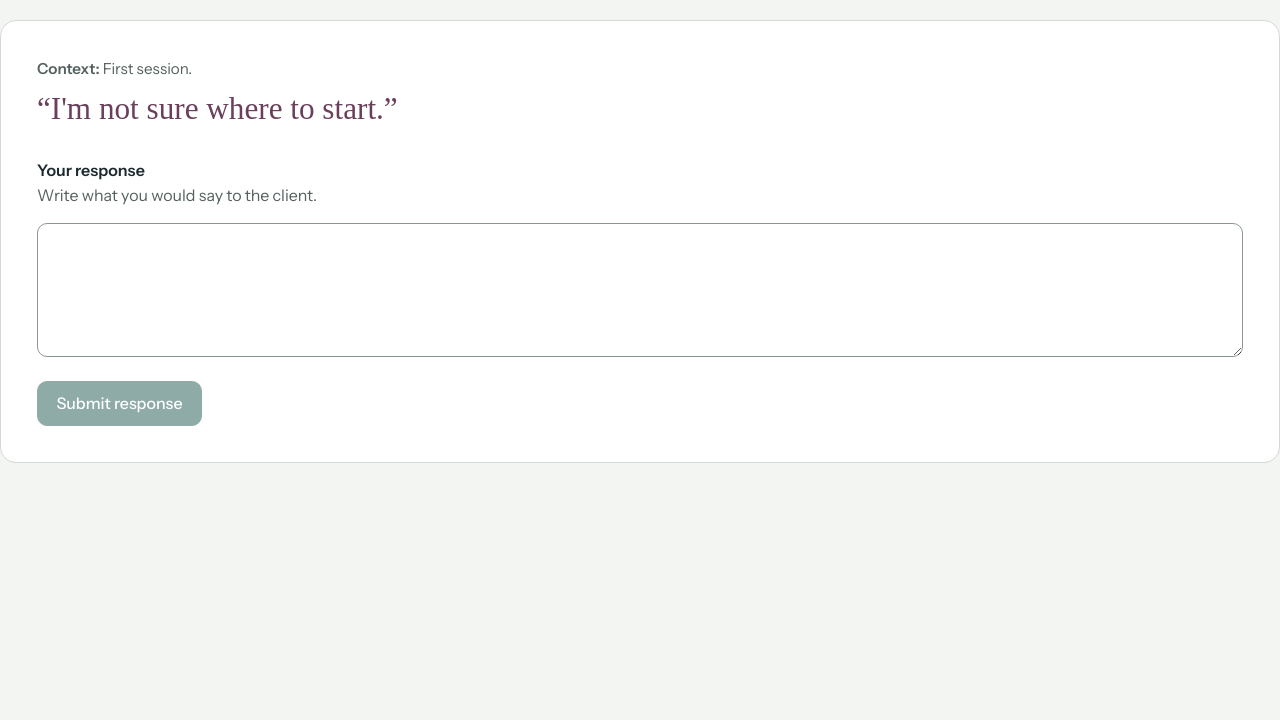
Scenario: DrillCard › a long response with 2 criteria is shown as met
In the text box labelled "Your response": (640, 290) [37,223,1243,357], type "A response that is long enough."
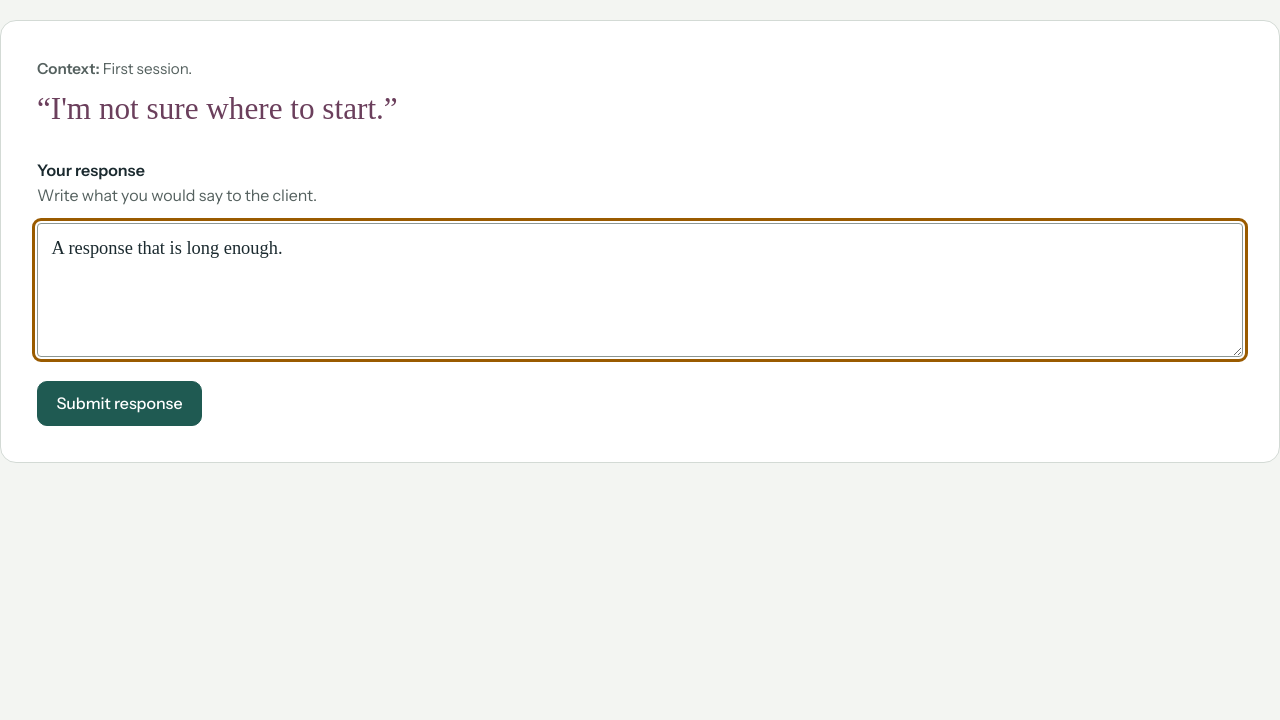
Click the button "Submit response": click(120, 404) [37,381,202,426]
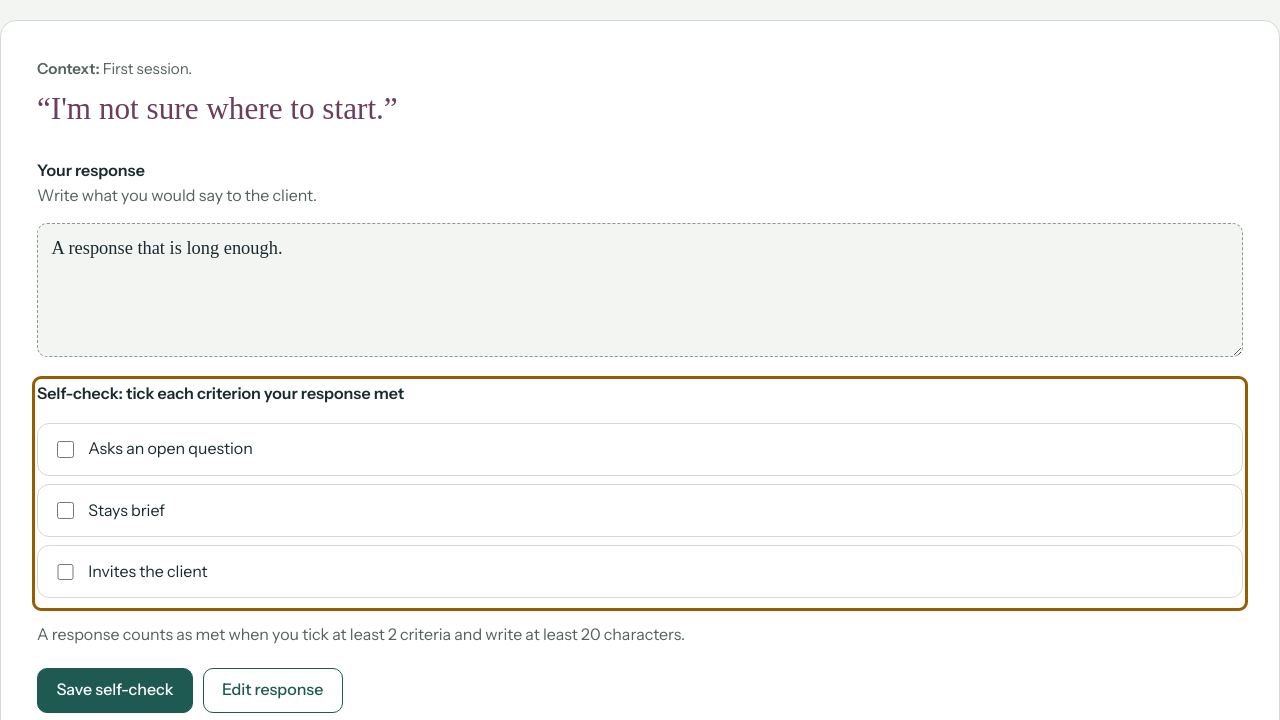
Click the checkbox labelled "Asks an open question": click(66, 450) [57,441,74,458]
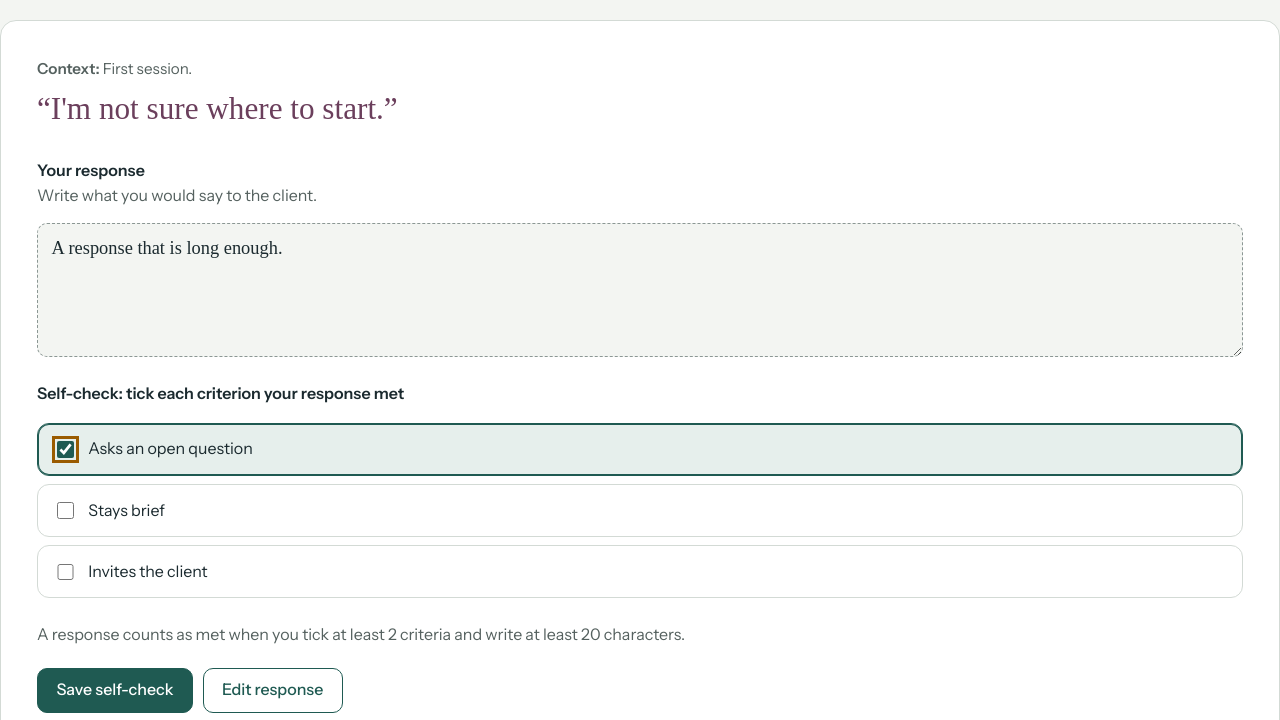
Click the checkbox labelled "Stays brief": click(66, 511) [57,502,74,519]
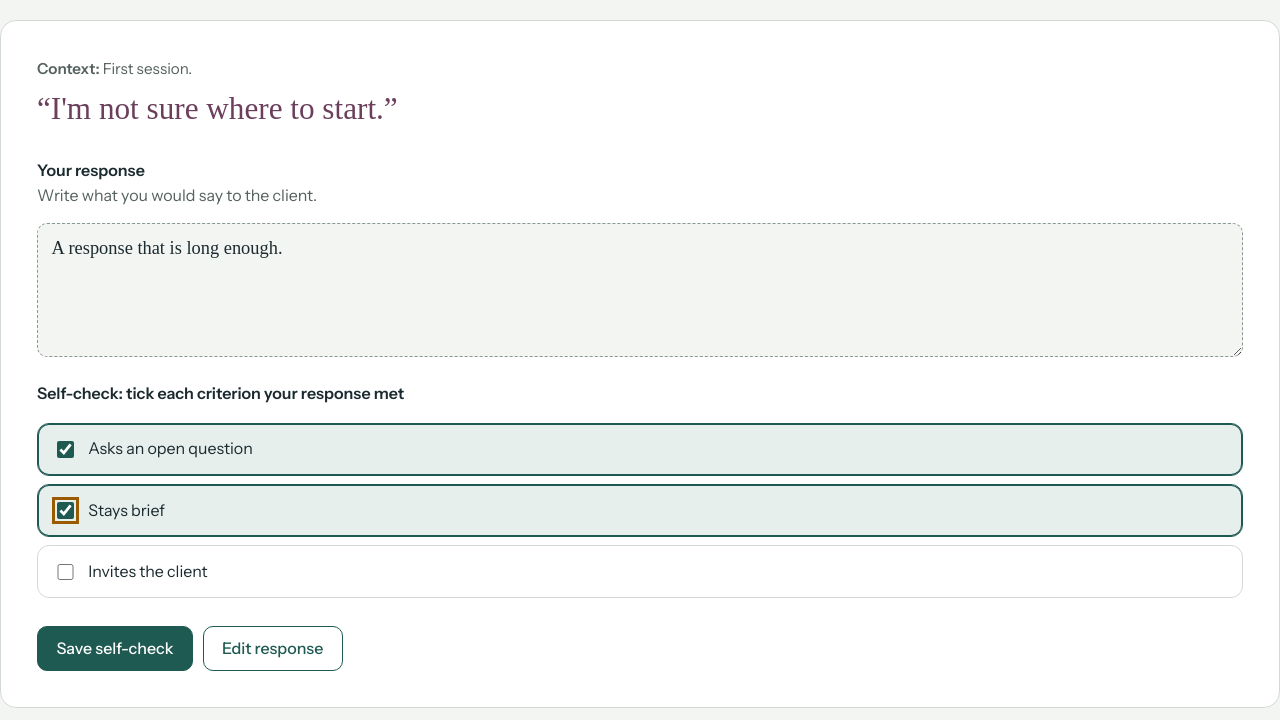
Click the button "Save self-check": click(115, 649) [37,626,193,671]
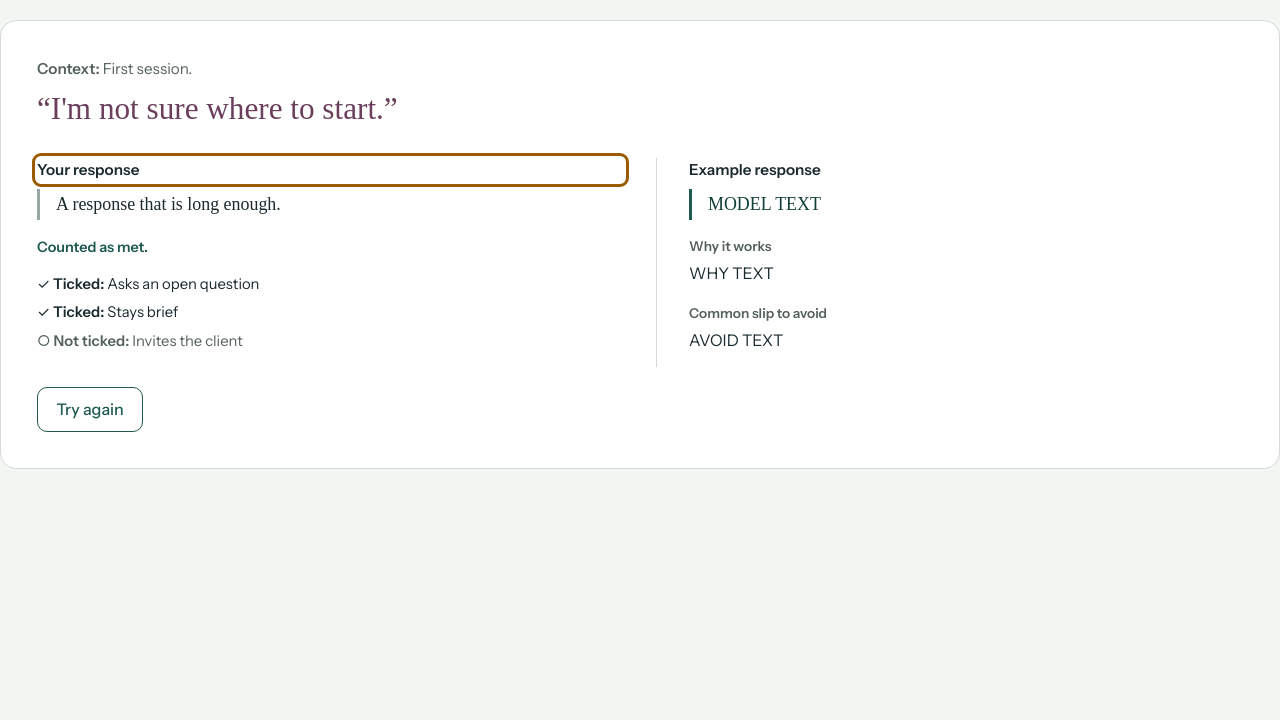
Result: the text "Counted as met." is shown at [37,238,148,256]
